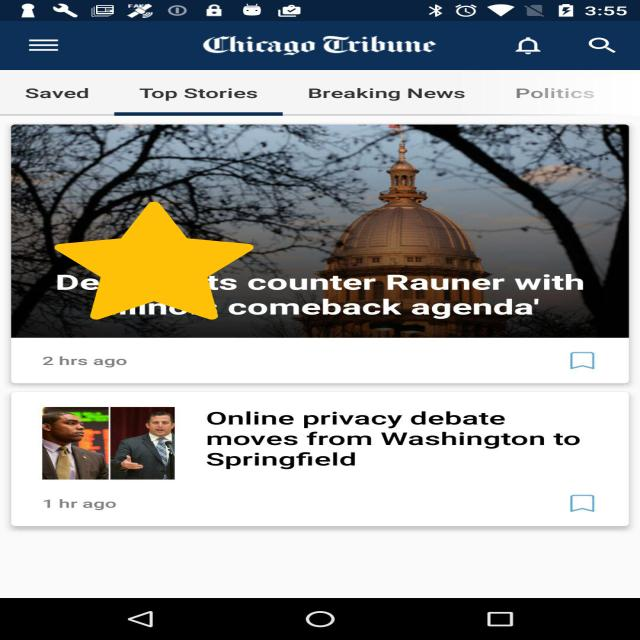forced continuity: (55, 202, 254, 320)
